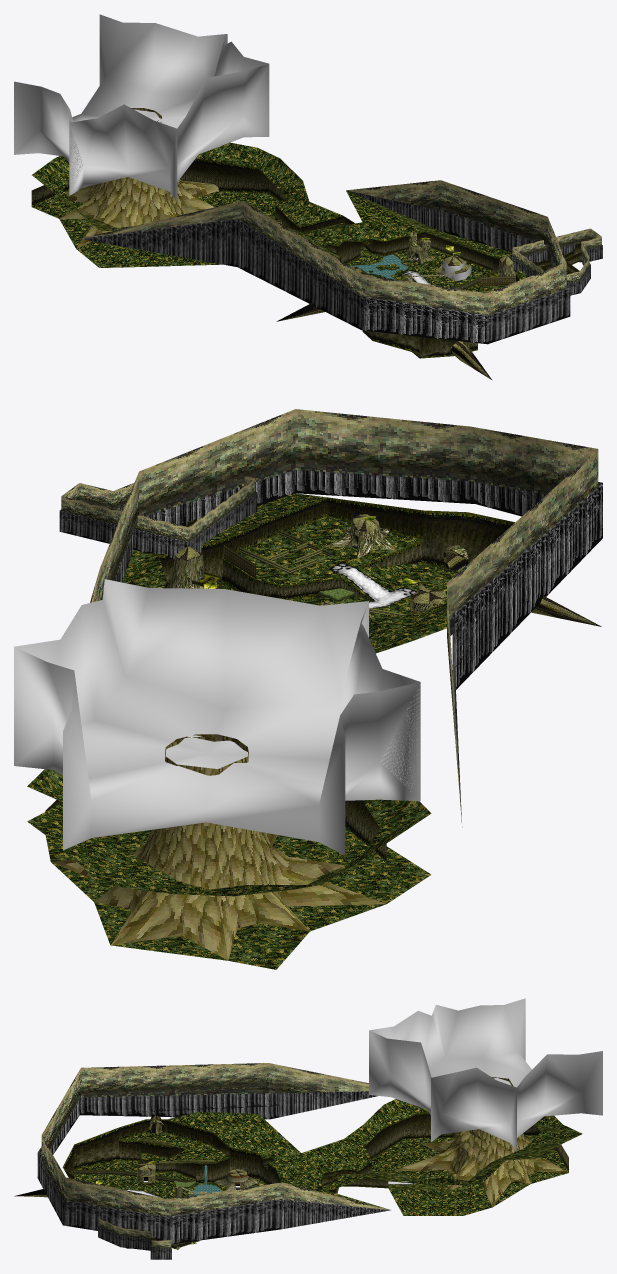
File: world.fbx
3 views of the same model, one above another, from view 1: azimuth 30°, elevation 25°; view 2: azimuth 150°, elevation 25°; view 3: azimuth 270°, elevation 25° (orthographic). The views are drawn at different scales.
Visible parts, largest first — view 1: dekutree_treetopd, main_treesm, dekutree_trunksd, dekutree_grassd, main_trunksm, main_grassm, dekutree_barkb, main_wallm, dekutree_walld2, training_treest, training_trunkst, dekutree_treesd (+4 smaller); view 2: dekutree_treetopd, main_treesm, dekutree_grassd, dekutree_barkb, main_grassm, dekutree_trunksd, main_trunksm, main_wallm, main_walls, training_treest, training_trunkst, dekutree_treesd (+7 smaller); view 3: dekutree_treetopd, main_treesm, dekutree_grassd, dekutree_trunksd, main_grassm, main_trunksm, main_wallm, dekutree_barkb, dekutree_treesd, dekutree_walld2, main_walls, training_trunkst (+3 smaller).
Boxes of the visible parts, bbox=[...] form: dekutree_treetopd: bbox=[14, 14, 269, 201]; main_treesm: bbox=[81, 180, 566, 315]; dekutree_trunksd: bbox=[80, 190, 549, 329]; dekutree_grassd: bbox=[32, 142, 370, 267]; main_trunksm: bbox=[88, 219, 570, 344]; main_grassm: bbox=[299, 190, 547, 291]; dekutree_barkb: bbox=[54, 108, 218, 248]; main_wallm: bbox=[275, 205, 501, 358]; dekutree_walld2: bbox=[31, 158, 285, 206]; training_treest: bbox=[512, 228, 601, 282]; training_trunkst: bbox=[511, 242, 602, 295]; dekutree_treesd: bbox=[85, 201, 318, 268]; dekutree_treetopd: bbox=[14, 579, 420, 855]; main_treesm: bbox=[90, 409, 598, 822]; dekutree_grassd: bbox=[27, 769, 431, 969]; dekutree_barkb: bbox=[51, 734, 385, 960]; main_grassm: bbox=[122, 493, 458, 653]; dekutree_trunksd: bbox=[114, 483, 602, 821]; main_trunksm: bbox=[115, 470, 602, 809]; main_wallm: bbox=[159, 510, 514, 639]; main_walls: bbox=[223, 497, 423, 558]; training_treest: bbox=[61, 476, 255, 541]; training_trunkst: bbox=[59, 492, 257, 559]; dekutree_treesd: bbox=[101, 475, 548, 814]; dekutree_treetopd: bbox=[369, 998, 602, 1151]; main_treesm: bbox=[41, 1063, 389, 1216]; dekutree_grassd: bbox=[301, 1099, 582, 1215]; dekutree_trunksd: bbox=[80, 1091, 390, 1244]; main_grassm: bbox=[74, 1111, 386, 1208]; main_trunksm: bbox=[37, 1091, 368, 1241]; main_wallm: bbox=[62, 1127, 388, 1248]; dekutree_barkb: bbox=[394, 1077, 568, 1206]; dekutree_treesd: bbox=[85, 1063, 368, 1097]; dekutree_walld2: bbox=[365, 1112, 568, 1172]; main_walls: bbox=[119, 1119, 212, 1157]; training_trunkst: bbox=[98, 1226, 171, 1259].
Bounding box in the file's own units: 54.91 × 24.93 × 83.74.
